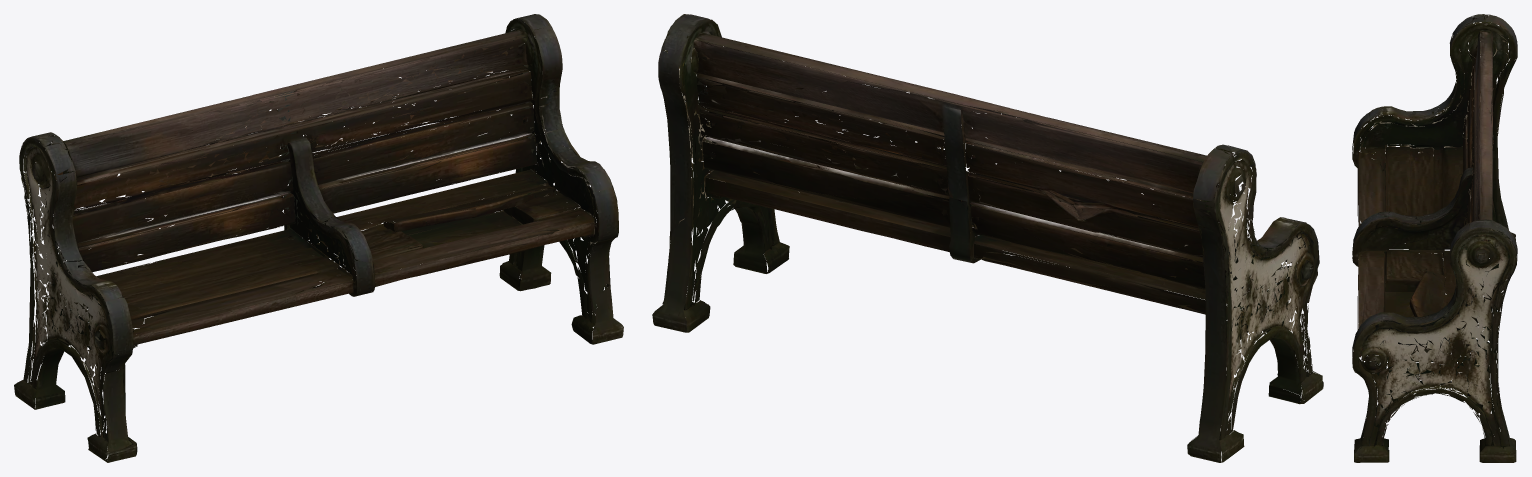
Rendered from ch03_fountain_bench.glb.
The picture shows the model from 3 angles, left to right: view 1: azimuth 30°, elevation 25°; view 2: azimuth 150°, elevation 25°; view 3: azimuth 270°, elevation 25°; orthographic projection. The views are drawn at different scales.
Parts seen in each view (by area): view 1: material; view 2: material; view 3: material.
Part boxes in pixels (box(x1,y1,x2,y2)): material: box(14, 14, 623, 462); material: box(652, 14, 1323, 462); material: box(1352, 14, 1517, 462).
Bounding box in the file's own units: 1.04 × 0.5154 × 0.3317.
1 material, 1 textured.
